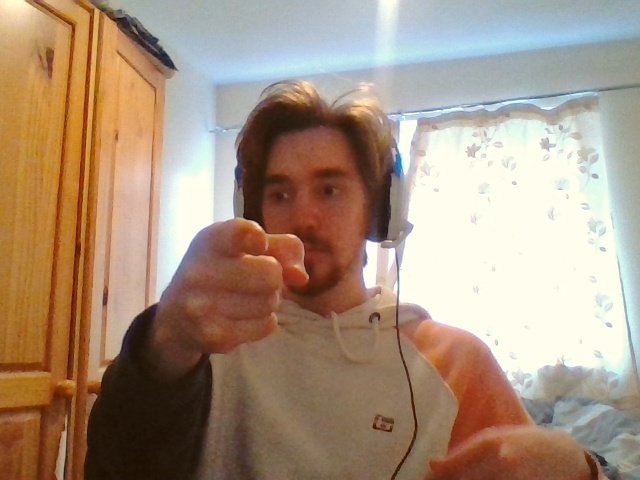you: (174, 218, 309, 348)
